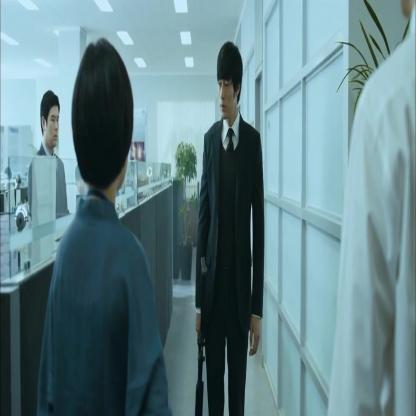Gun: (192, 247, 211, 414)
